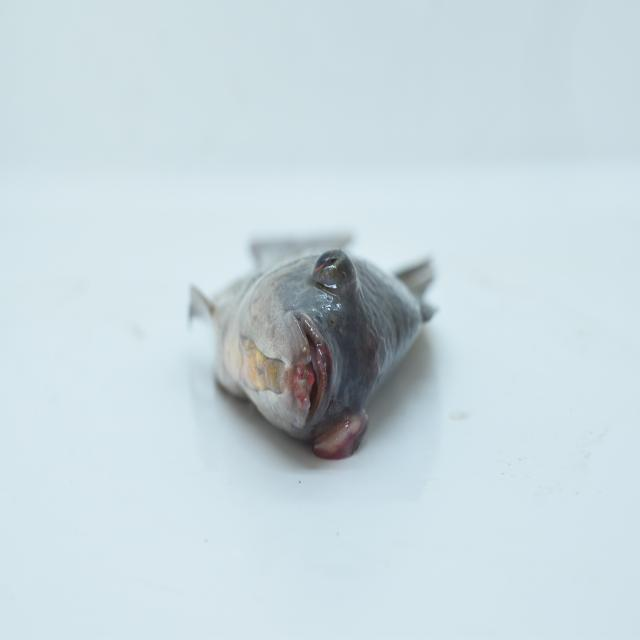Columnaris Disease: (156, 152, 464, 493)
